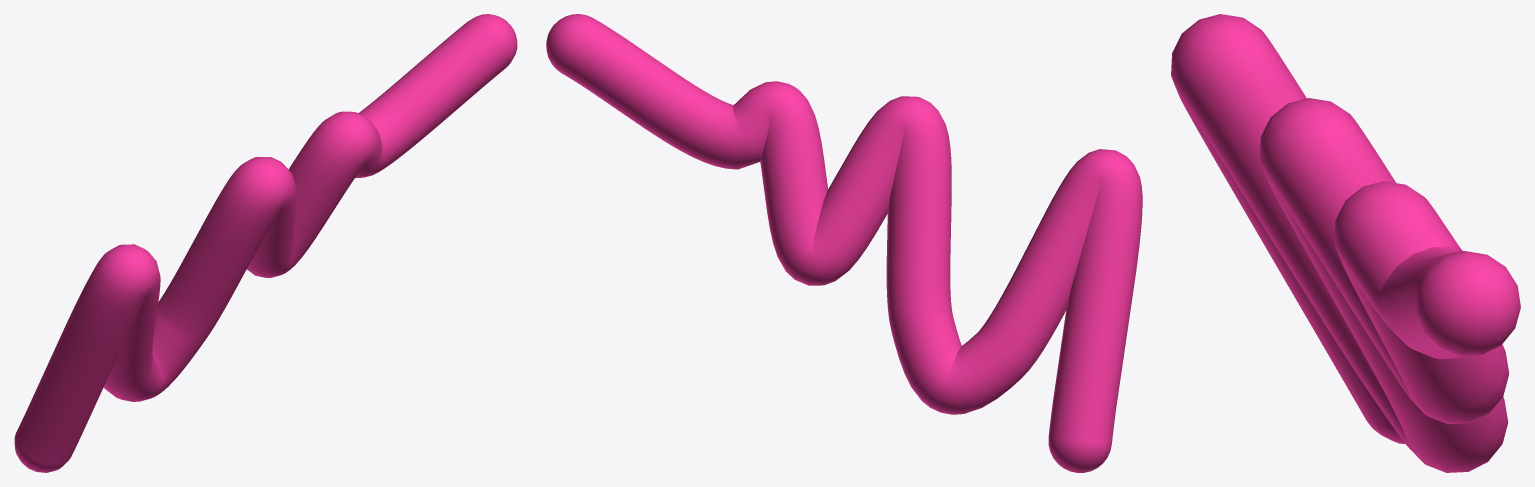
3 views of the same model, side by side, from view 1: azimuth 30°, elevation 25°; view 2: azimuth 150°, elevation 25°; view 3: azimuth 270°, elevation 25° (orthographic). The views are drawn at different scales.
Parts seen in each view (by area): view 1: mesh_id29; view 2: mesh_id29; view 3: mesh_id29.
Part boxes in pixels (x1=…): mesh_id29: x1=14, y1=14, x2=517, y2=472; mesh_id29: x1=546, y1=14, x2=1142, y2=472; mesh_id29: x1=1171, y1=14, x2=1520, y2=472.
Bounding box in the file's own units: 0.5834 × 0.3591 × 0.1981.
Materials: 1 (1 with a texture image).
